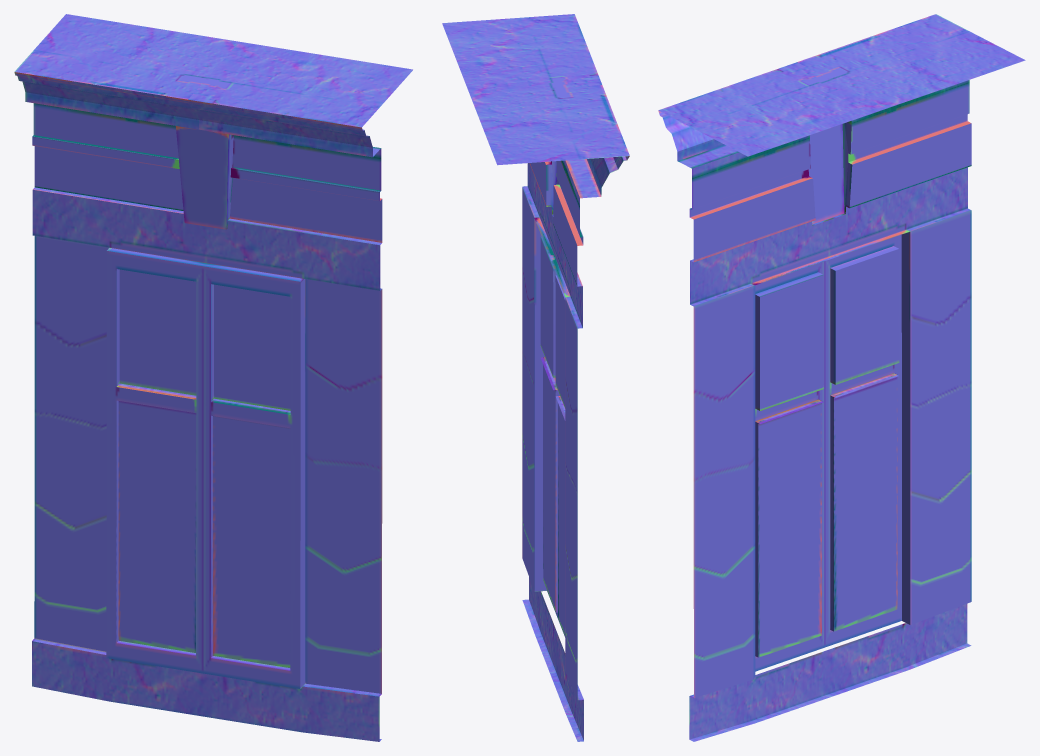
3 renders of one model, left to right at view 1: azimuth 30°, elevation 25°; view 2: azimuth 150°, elevation 25°; view 3: azimuth 270°, elevation 25°, orthographic. The views are drawn at different scales.
Visible parts, largest first — view 1: _2Fwindow_low_007; view 2: _2Fwindow_low_007; view 3: _2Fwindow_low_007.
Boxes of the visible parts, left/top/right/bottom form: _2Fwindow_low_007: left=14, top=14, right=412, bottom=741; _2Fwindow_low_007: left=442, top=14, right=629, bottom=741; _2Fwindow_low_007: left=658, top=14, right=1025, bottom=741.
Size of the model in its own units: 203 by 410 by 222.
